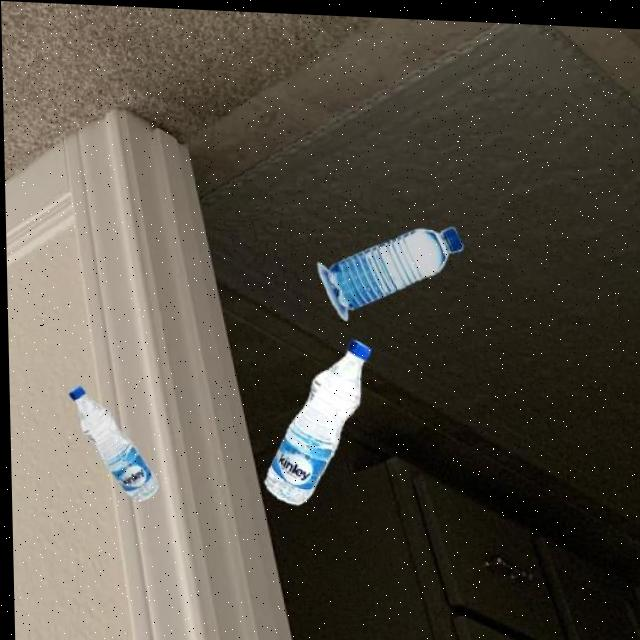bottle: (258, 331, 374, 506), (314, 214, 465, 324), (66, 384, 158, 503)
